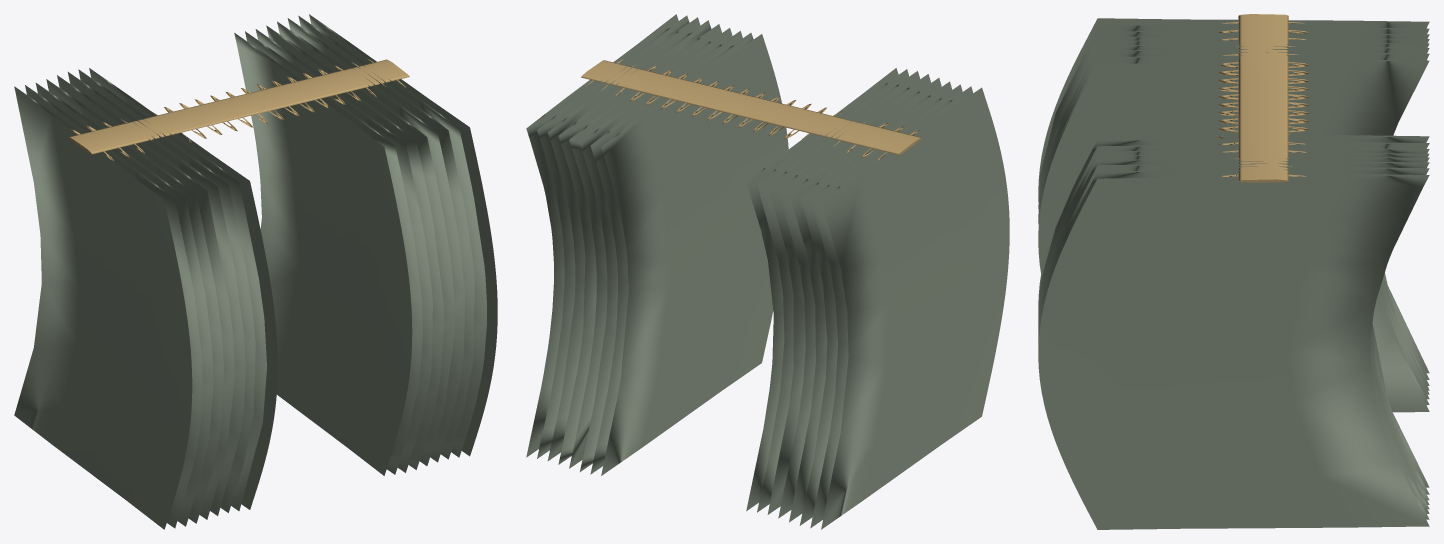
File: studio-curtain-velvet.lod.glb
3 renders of one model, left to right at view 1: azimuth 30°, elevation 25°; view 2: azimuth 150°, elevation 25°; view 3: azimuth 270°, elevation 25°, orthographic. The views are drawn at different scales.
Parts seen in each view (by area): view 1: part (×2); view 2: part (×2); view 3: part (×2).
Part boxes in pixels (x1=…): part (×2): x1=14, y1=14, x2=497, y2=529; part (×2): x1=526, y1=14, x2=1009, y2=529; part (×2): x1=1038, y1=14, x2=1429, y2=529.
Size of the model in its own units: 1 by 0.9999 by 1.
